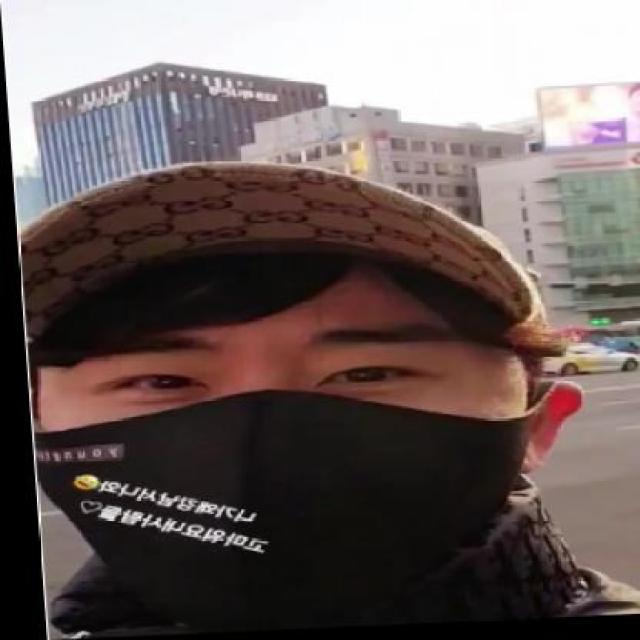hat: (10, 143, 552, 380)
